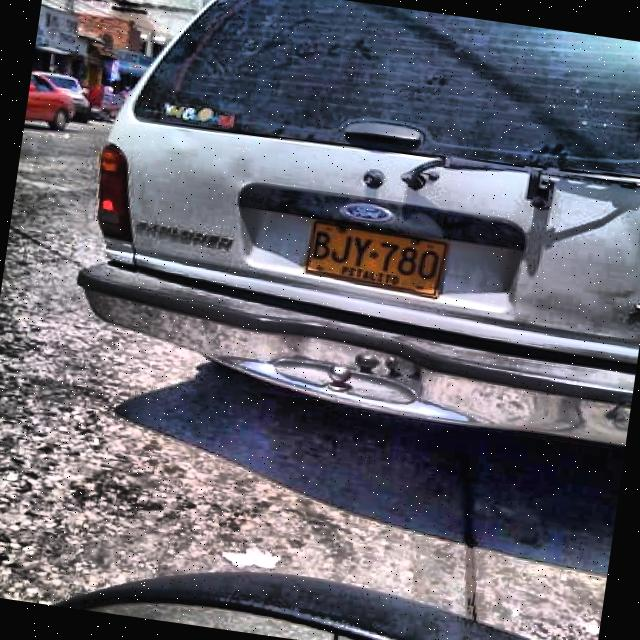0: (418, 249, 441, 281)
7: (377, 241, 401, 273)
8: (396, 244, 419, 278)
B: (312, 230, 333, 262)
J: (330, 232, 353, 265)
Y: (351, 235, 374, 268)
